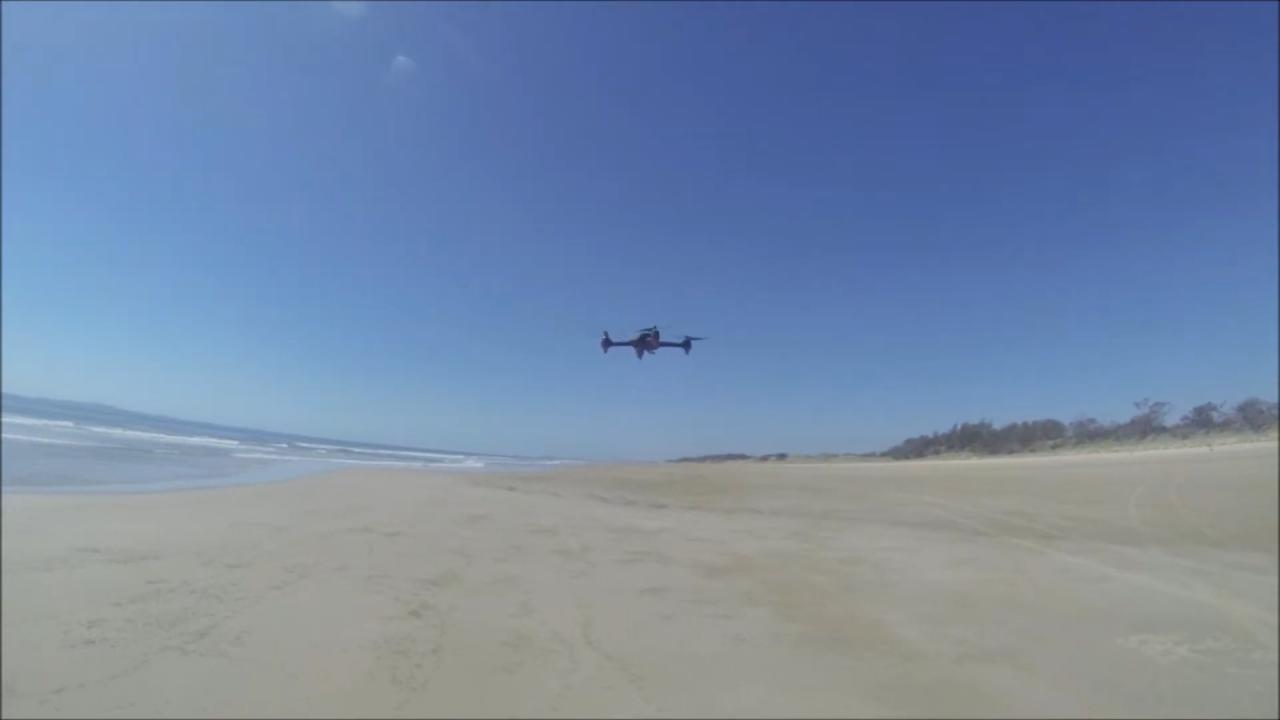Drone: (588, 312, 718, 371)
